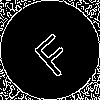F: (25, 25, 78, 80)
